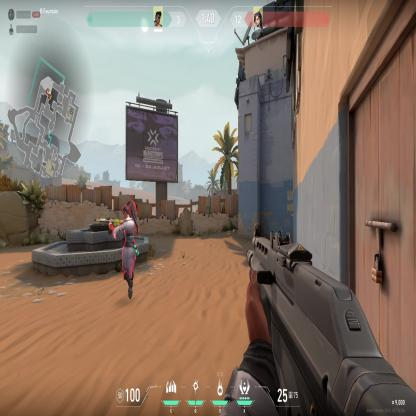enemy: (108, 198, 141, 301)
